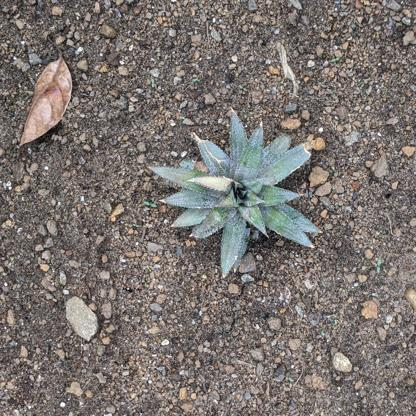pineapple: (147, 114, 321, 278)
